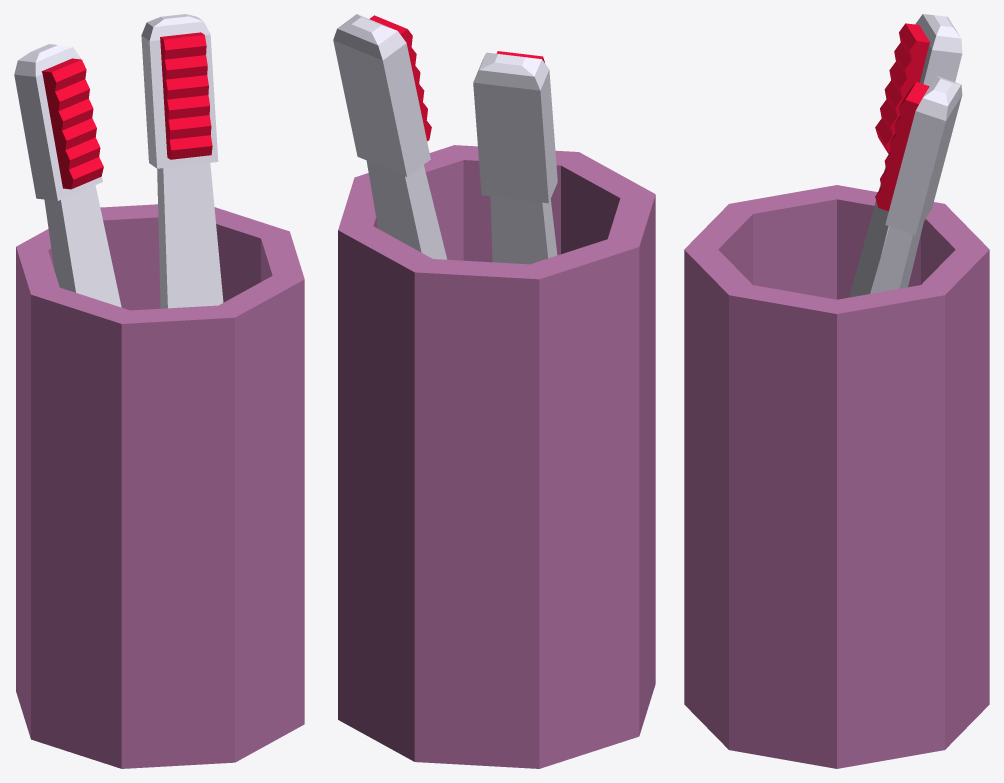
The model's file is Glass + brushes new V3.fbx.
3 renders of one model, left to right at view 1: azimuth 30°, elevation 25°; view 2: azimuth 150°, elevation 25°; view 3: azimuth 270°, elevation 25°, orthographic. The views are drawn at different scales.
Visible parts, largest first — view 1: Cube; view 2: Cube; view 3: Cube.
Boxes of the visible parts, x1,y1,x2,y2 form: Cube: [14, 14, 304, 768]; Cube: [333, 14, 655, 768]; Cube: [684, 14, 989, 768].
Size of the model in its own units: 168 by 396 by 168.
